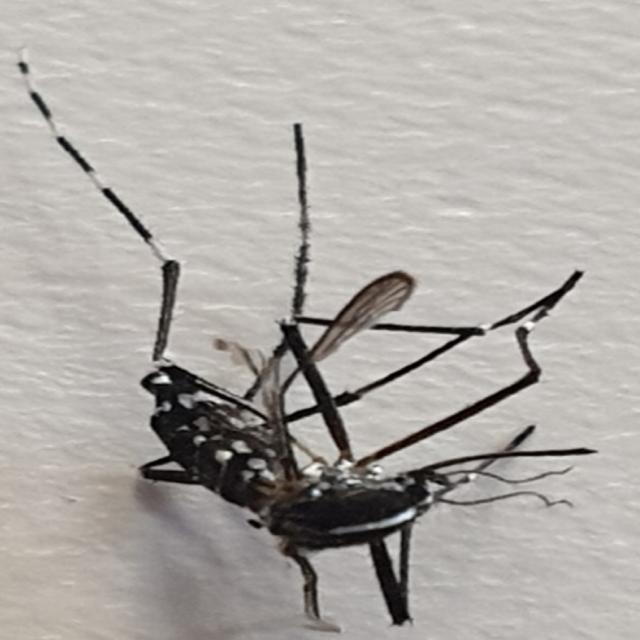albopictus: (76, 155, 600, 628)
